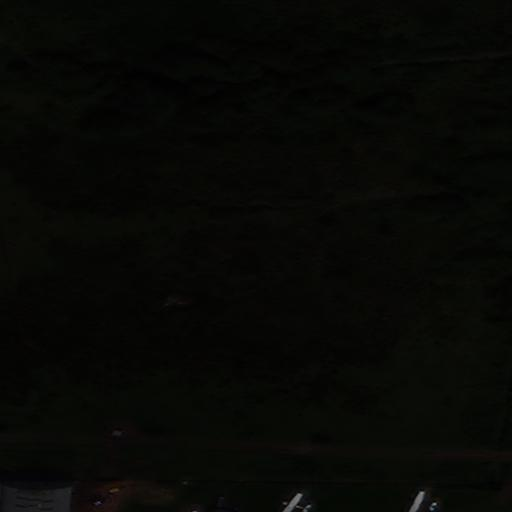Small Civil Transport: (406, 490, 437, 512), (279, 492, 309, 512), (206, 496, 238, 512)
